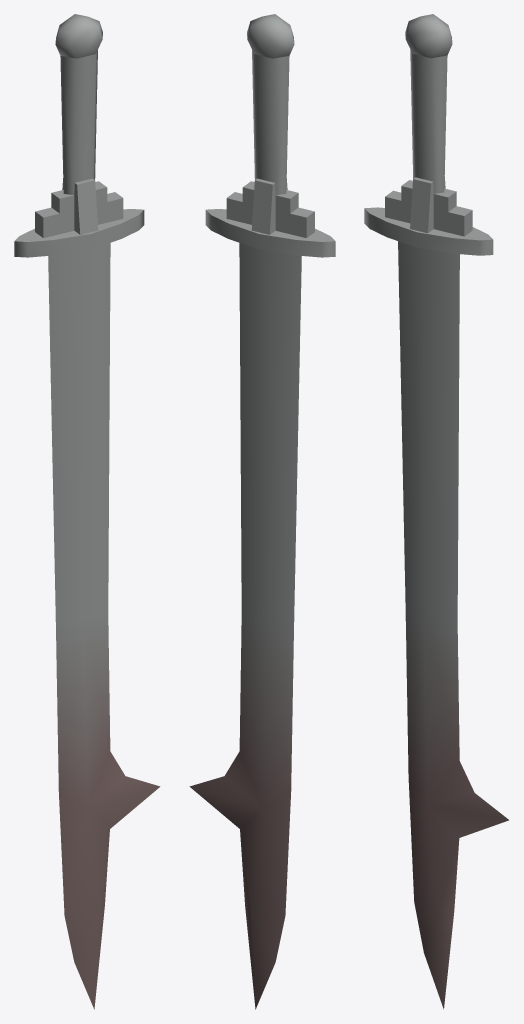
The picture shows the model from 3 angles, left to right: view 1: azimuth 30°, elevation 25°; view 2: azimuth 150°, elevation 25°; view 3: azimuth 330°, elevation 25°; orthographic projection.
Parts seen in each view (by area): view 1: G:\FFXIV-MapTools\exports\r2f1\bg\ex1\01_roc_r2\fld\r2f1\bgp; view 2: G:\FFXIV-MapTools\exports\r2f1\bg\ex1\01_roc_r2\fld\r2f1\bgp; view 3: G:\FFXIV-MapTools\exports\r2f1\bg\ex1\01_roc_r2\fld\r2f1\bgp.
Boxes of the visible parts, left/top/right/bottom form: G:\FFXIV-MapTools\exports\r2f1\bg\ex1\01_roc_r2\fld\r2f1\bgp: left=14, top=14, right=160, bottom=1009; G:\FFXIV-MapTools\exports\r2f1\bg\ex1\01_roc_r2\fld\r2f1\bgp: left=189, top=14, right=335, bottom=1009; G:\FFXIV-MapTools\exports\r2f1\bg\ex1\01_roc_r2\fld\r2f1\bgp: left=364, top=14, right=508, bottom=1009.
Bounding box in the file's own units: 0.2025 × 1.32 × 0.0559.
